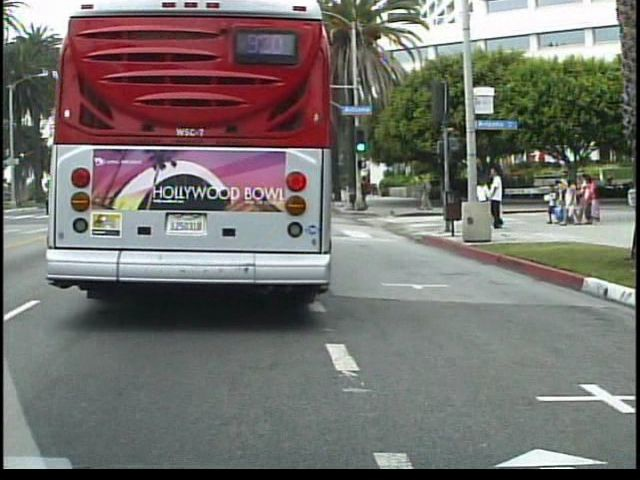person: (493, 164, 511, 234), (473, 173, 495, 225), (360, 174, 380, 214), (417, 172, 435, 214)
